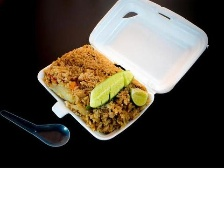foam_box: (32, 0, 214, 144)
